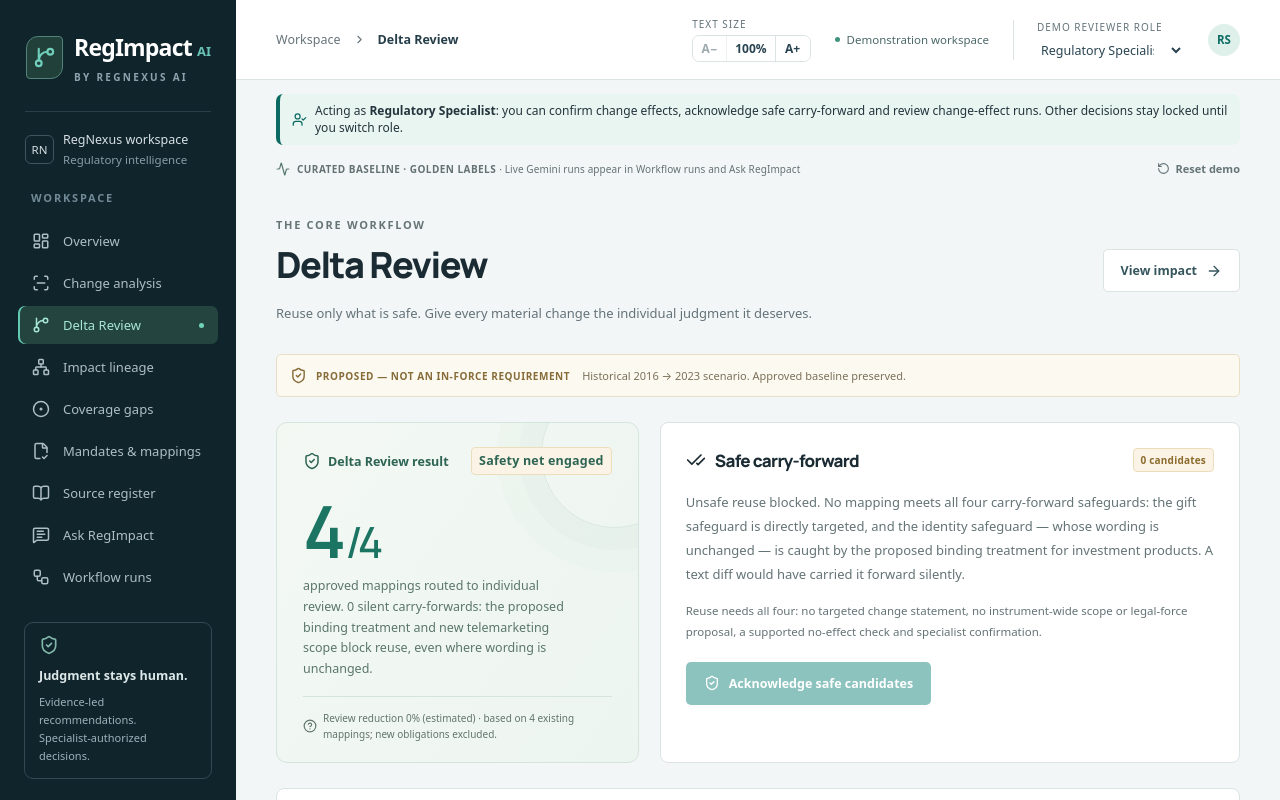
Test: RegImpact review workflows › blocks unresolved mapping decisions until change effect is confirmed
The image size is (1280, 800).
Select "Policy Owner" in the dropdown labelled "DEMO REVIEWER ROLE" at (1110, 50), box [1037, 40, 1184, 60]
(page scrolled)
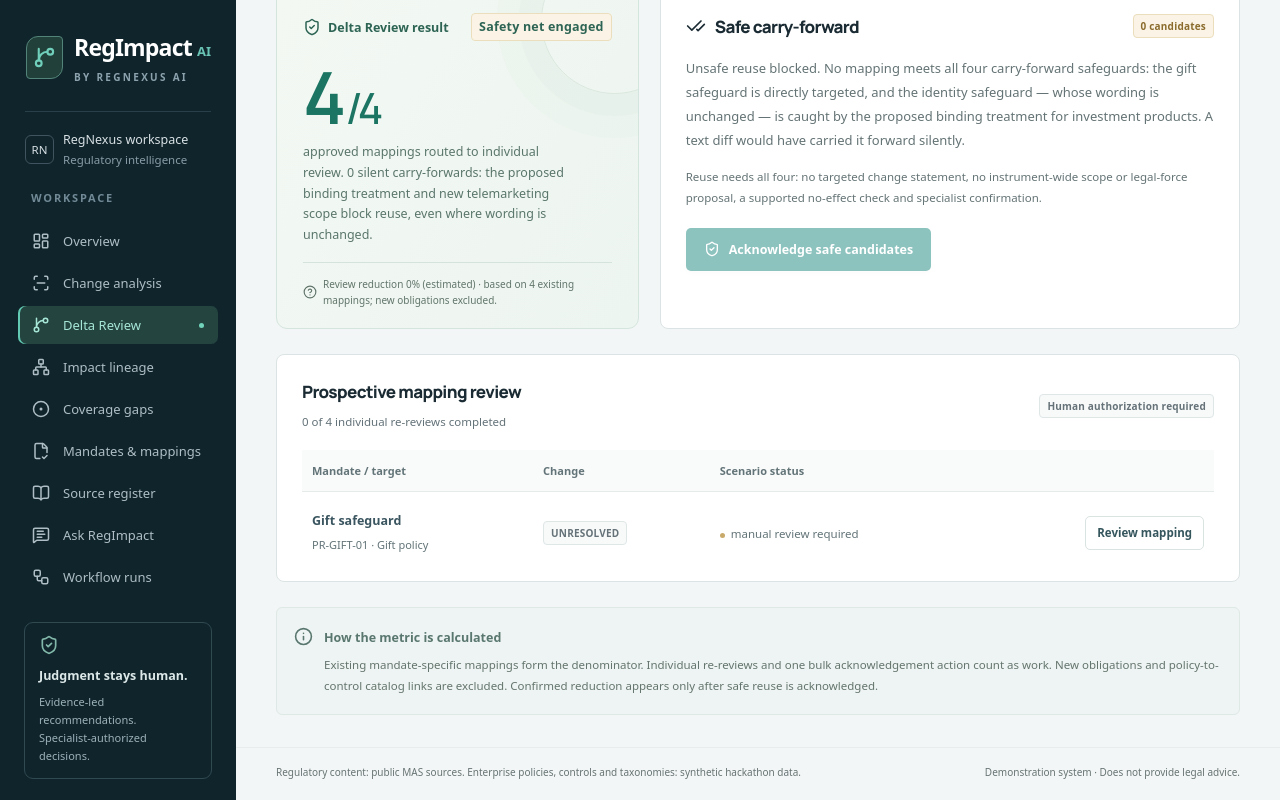
Click the button "Review mapping" at (1145, 533), box [1085, 516, 1204, 550]
(page scrolled)
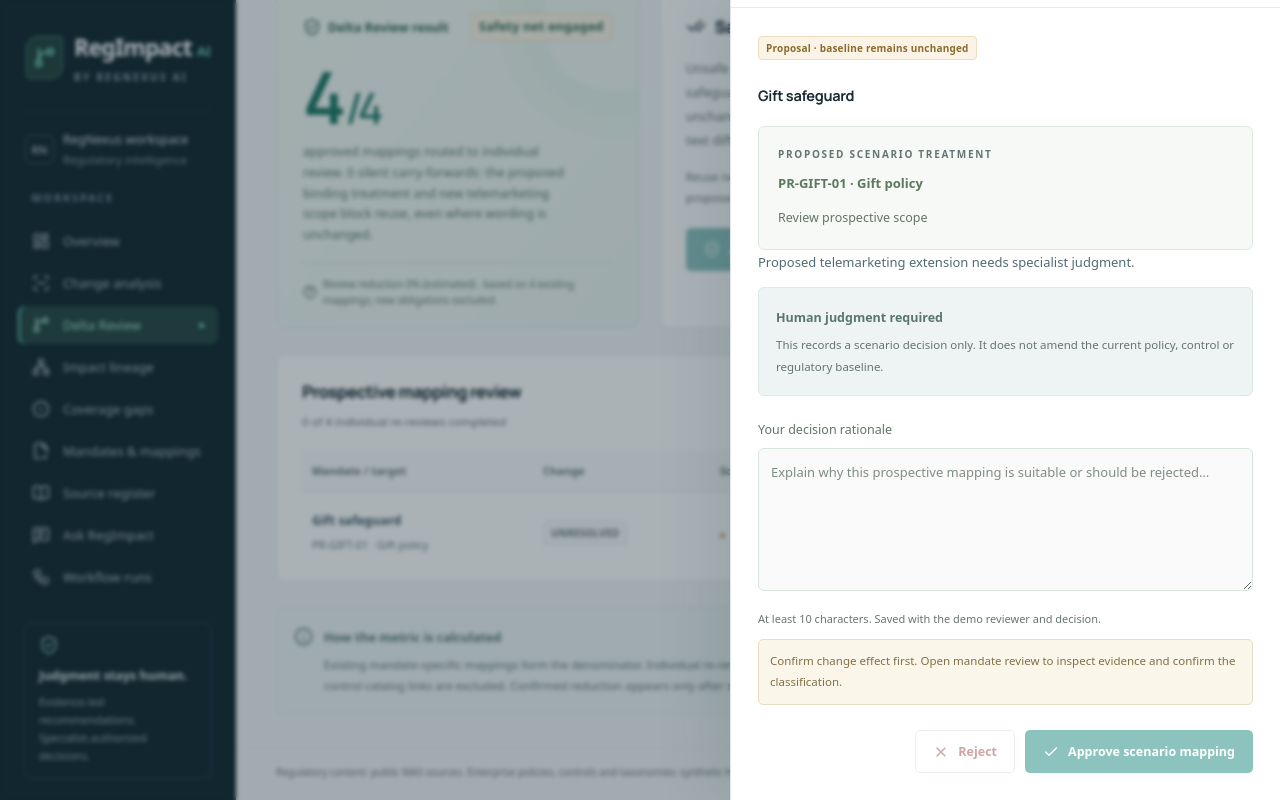
Now the text "Confirm change effect first" is shown, box [770, 653, 918, 668]
Now the text box labelled "Your decision rationale" is disabled, box [758, 448, 1253, 591]
Now the button "Reject" is disabled, box [915, 730, 1015, 773]
